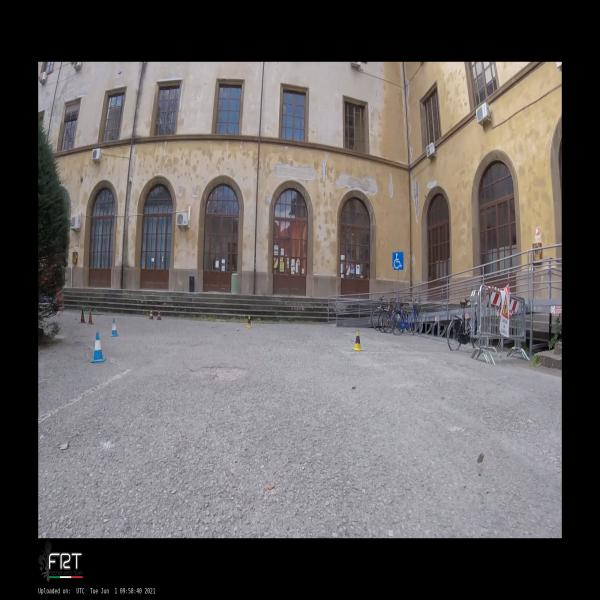blue_cone: (90, 332, 106, 363), (110, 319, 118, 337)
large_orange_cone: (156, 308, 162, 320), (148, 308, 153, 320)
unknown_cone: (79, 309, 86, 324), (87, 312, 94, 325)
yellow_cone: (351, 330, 364, 351), (246, 315, 252, 328)
